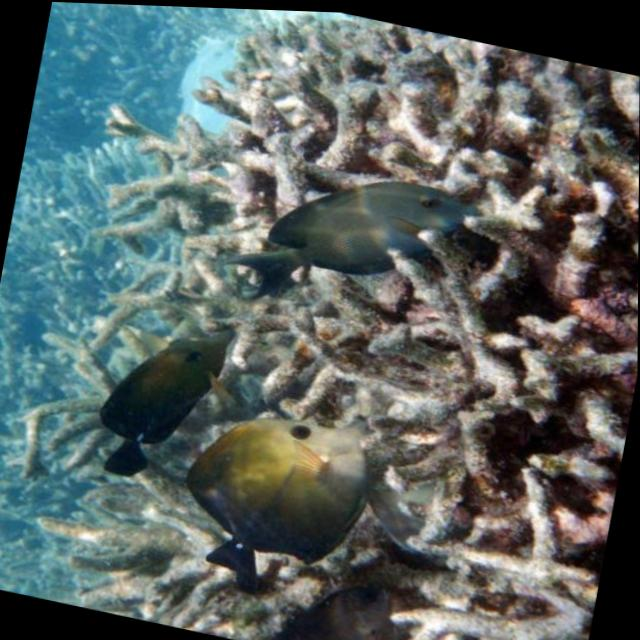Dead Coral: (391, 72, 640, 632), (175, 9, 357, 180)
